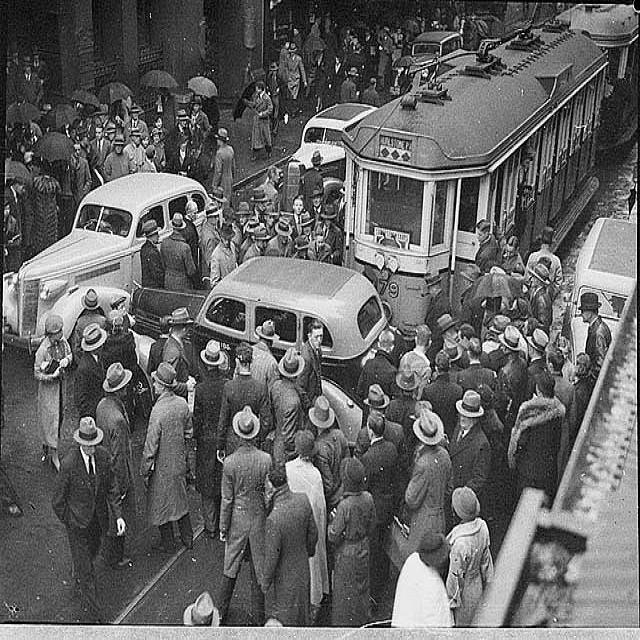body: (400, 215, 595, 432), (0, 32, 231, 196), (232, 2, 506, 122), (50, 413, 127, 622), (213, 162, 346, 266), (214, 405, 275, 628), (138, 357, 196, 557), (258, 457, 320, 628), (307, 393, 351, 612), (325, 454, 380, 628), (94, 358, 135, 570), (506, 367, 568, 500), (284, 428, 330, 607), (402, 406, 453, 565), (357, 408, 399, 600), (190, 338, 228, 541), (444, 483, 495, 628), (214, 339, 271, 466), (390, 529, 457, 630), (31, 313, 71, 475), (446, 388, 492, 523), (475, 381, 507, 557), (419, 350, 466, 444), (160, 305, 198, 417), (30, 157, 62, 285), (293, 318, 325, 441), (355, 381, 406, 458), (72, 322, 109, 426), (237, 227, 272, 336), (576, 290, 614, 382), (384, 367, 421, 460), (423, 268, 454, 376), (158, 211, 197, 296), (355, 327, 400, 400), (70, 286, 110, 368), (104, 306, 139, 399), (232, 318, 282, 383), (396, 322, 435, 402), (495, 323, 529, 408), (145, 313, 183, 385), (276, 346, 308, 428), (543, 343, 577, 418), (244, 80, 275, 162), (521, 326, 551, 402), (210, 126, 237, 208), (301, 149, 326, 234), (209, 220, 239, 290), (200, 200, 222, 292), (180, 584, 224, 630), (139, 218, 166, 290), (262, 60, 286, 138), (68, 141, 93, 211), (282, 41, 309, 100), (102, 136, 134, 183), (4, 173, 28, 233), (121, 125, 148, 177), (181, 199, 201, 269), (164, 107, 192, 154), (108, 292, 139, 334), (375, 25, 394, 90), (122, 106, 150, 150), (263, 219, 294, 257), (186, 94, 211, 133), (148, 127, 167, 174), (625, 162, 640, 220), (339, 66, 361, 104), (88, 123, 112, 157), (290, 234, 317, 261), (2, 196, 19, 238), (136, 142, 159, 173), (361, 75, 381, 108)
